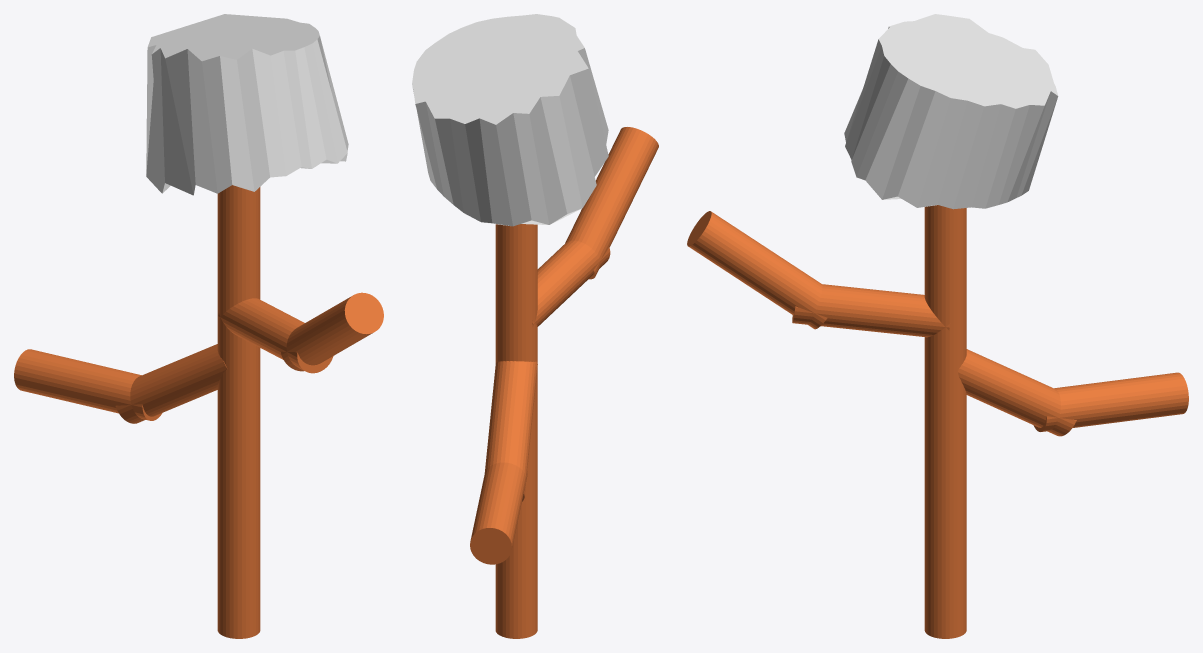
File: marsh.fbx
3 renders of one model, left to right at view 1: azimuth 30°, elevation 25°; view 2: azimuth 150°, elevation 25°; view 3: azimuth 270°, elevation 25°, orthographic.
Parts seen in each view (by area): view 1: Cylinder.003, Cylinder; view 2: Cylinder, Cylinder.003; view 3: Cylinder.003, Cylinder.
Part boxes in pixels (x1,y1,x2,y2): Cylinder.003: [14, 185, 383, 638]; Cylinder: [146, 14, 348, 195]; Cylinder: [412, 14, 608, 226]; Cylinder.003: [470, 127, 658, 638]; Cylinder.003: [687, 205, 1188, 638]; Cylinder: [844, 14, 1058, 209].
Bounding box in the file's own units: 135 × 399 × 305.
